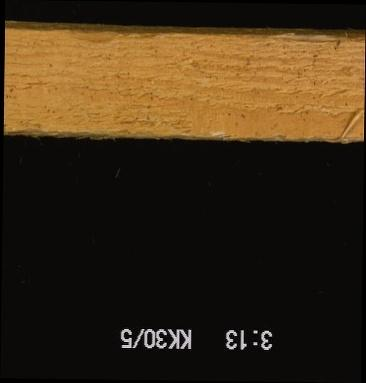wave: (52, 23, 185, 48), (275, 29, 361, 47)
